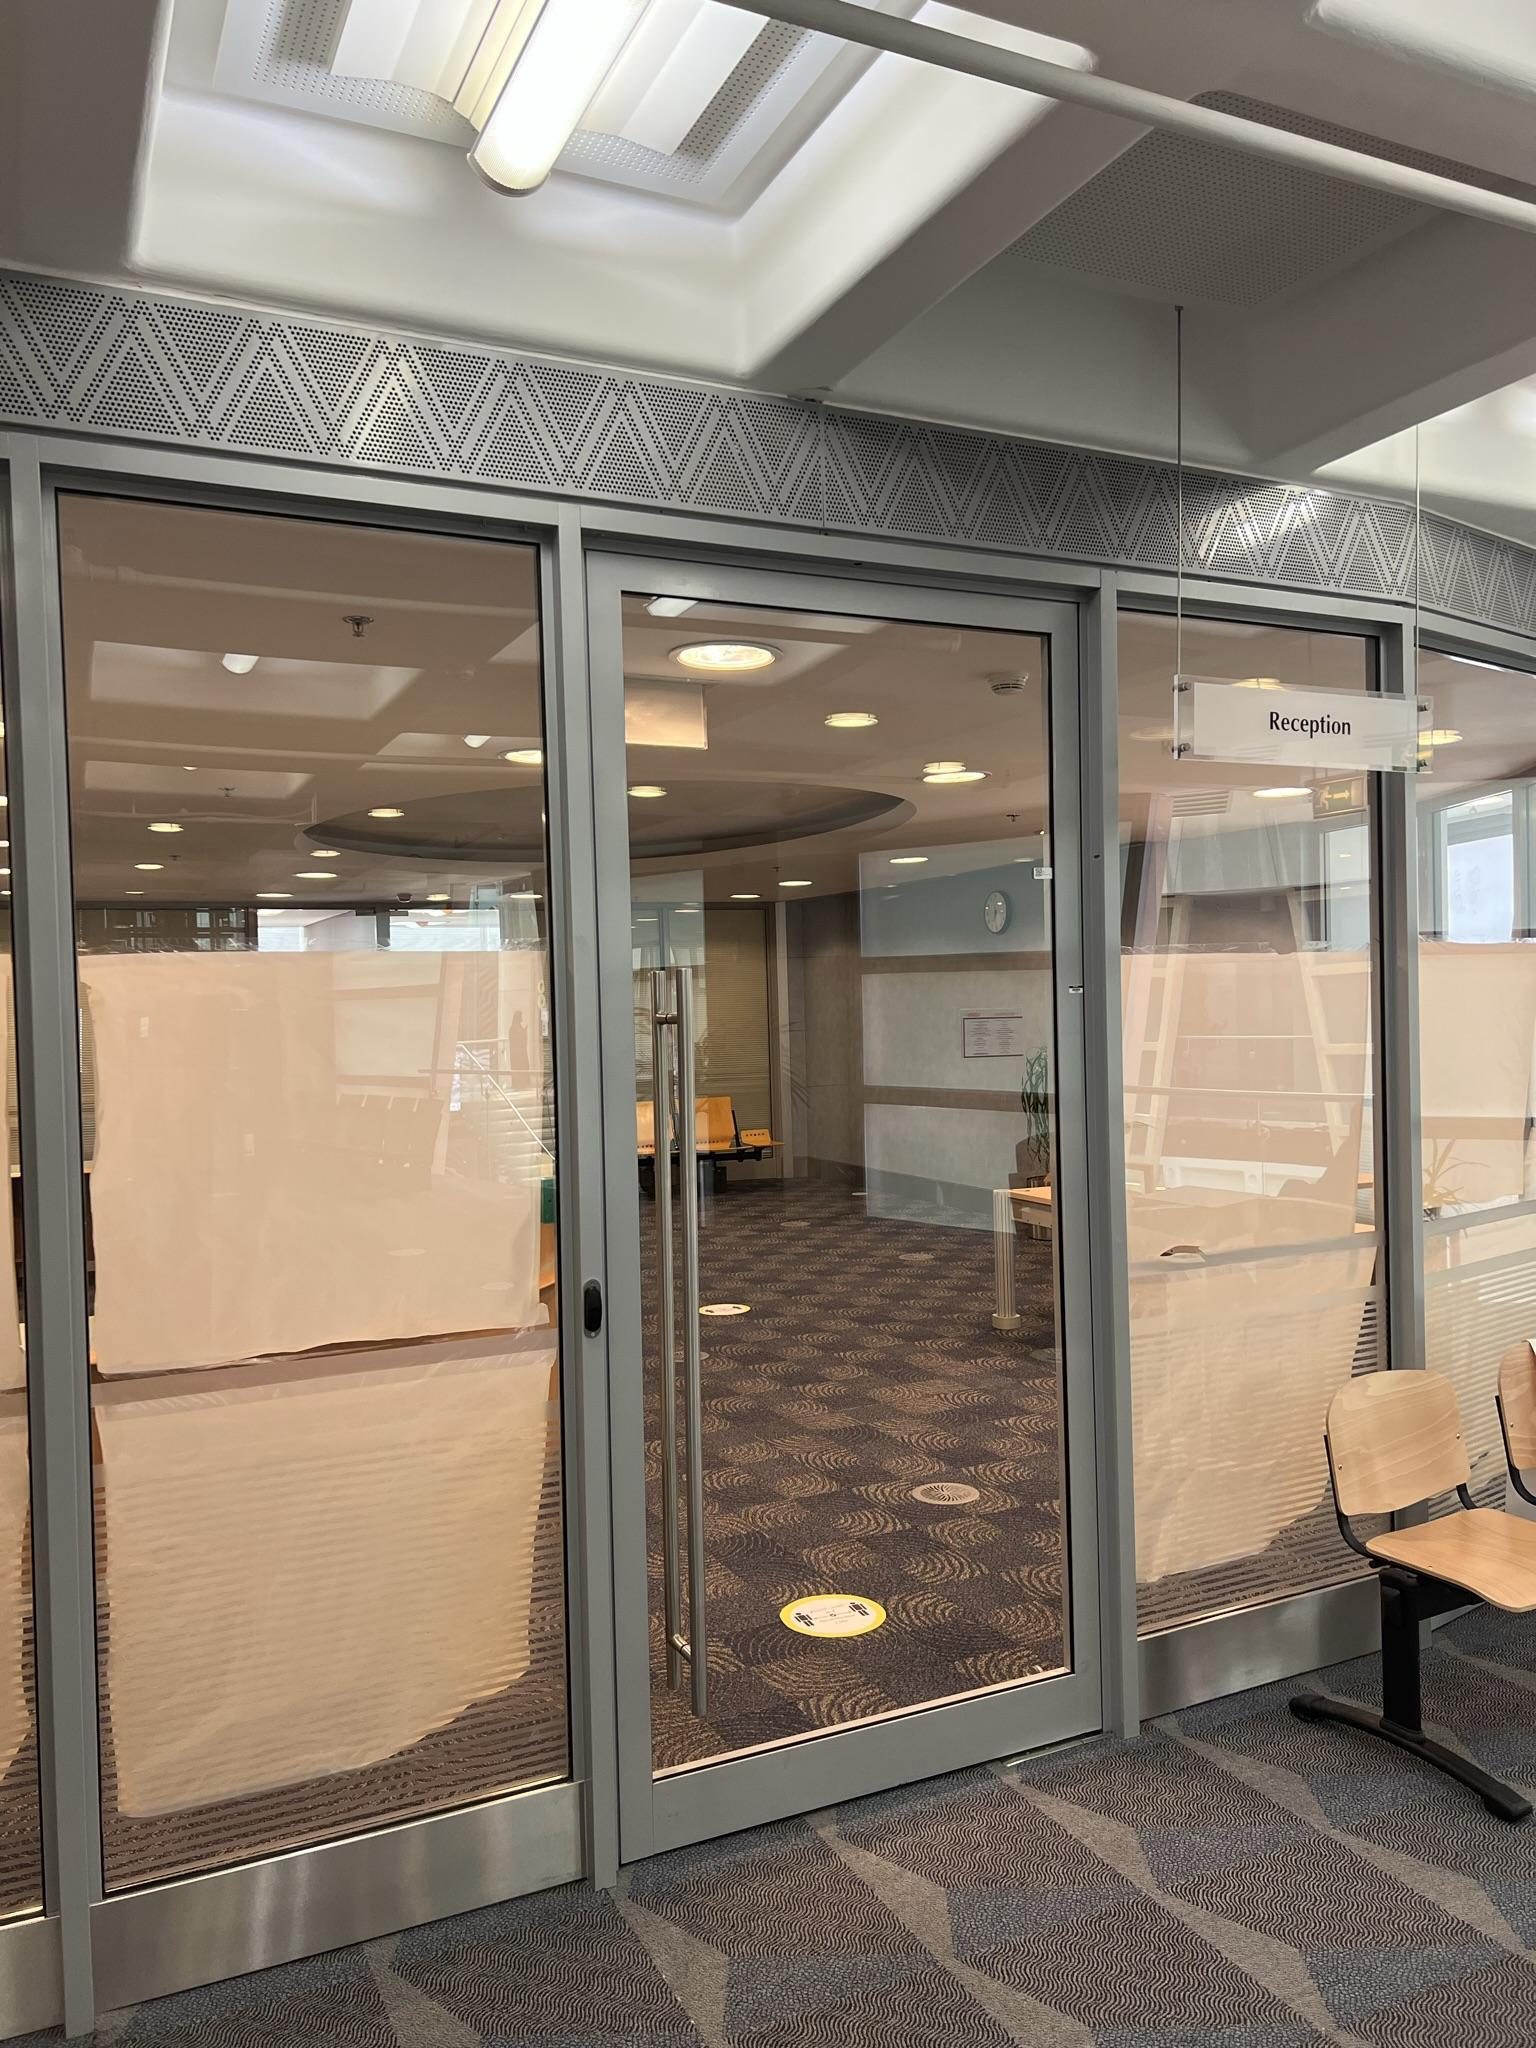door: (566, 516, 1133, 1830)
handle: (671, 947, 700, 1730)
